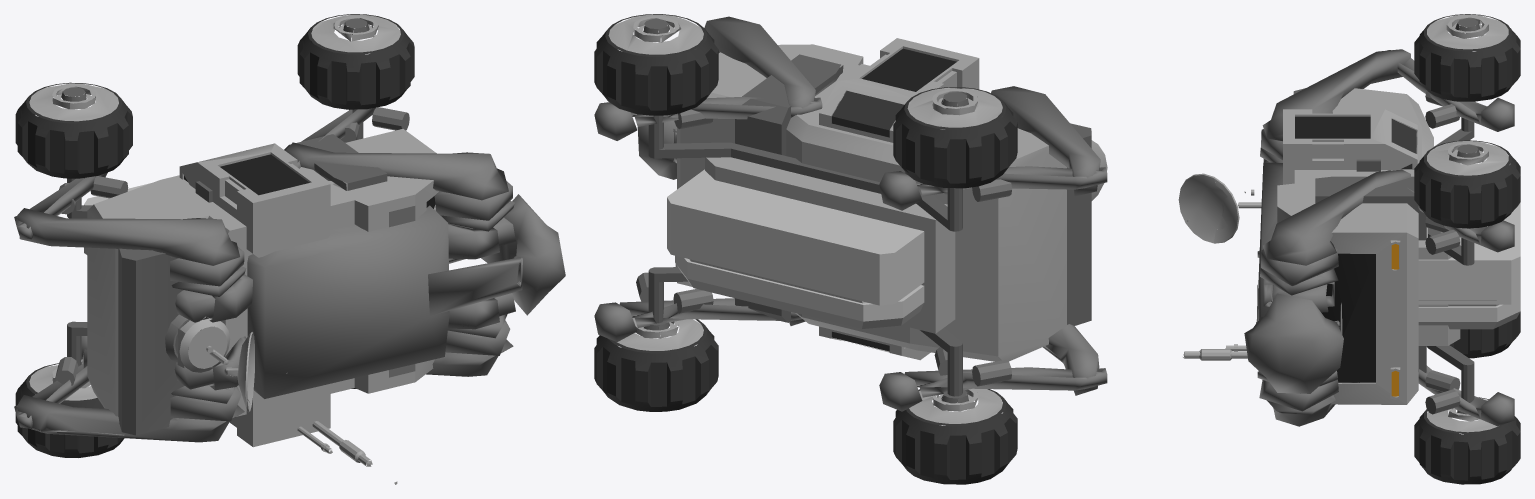
Rendered from robots.glb.
3 views of the same model, side by side, from view 1: azimuth 30°, elevation 25°; view 2: azimuth 150°, elevation 25°; view 3: azimuth 270°, elevation 25° (orthographic). The views are drawn at different scales.
Parts seen in each view (by area): view 1: responder_body, scout_body; view 2: responder_body, first_aid_kit_body, scout_body; view 3: responder_body, scout_body, first_aid_kit_body.
Boxes of the visible parts, x1=… form: responder_body: x1=15, y1=14, x2=438, y2=484; scout_body: x1=14, y1=107, x2=565, y2=442; responder_body: x1=594, y1=14, x2=1107, y2=484; first_aid_kit_body: x1=667, y1=169, x2=924, y2=328; scout_body: x1=594, y1=16, x2=1107, y2=411; responder_body: x1=1178, y1=14, x2=1520, y2=484; scout_body: x1=1244, y1=49, x2=1514, y2=426; first_aid_kit_body: x1=1418, y1=164, x2=1520, y2=329.
Size of the model in its own units: 0.1982 by 0.14 by 0.1492.
Materials: 6 (1 with a texture image).
